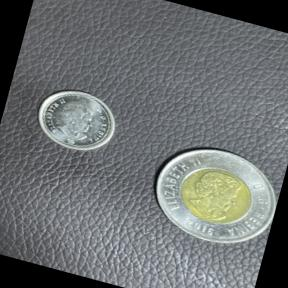coin: (133, 125, 288, 263), (25, 78, 128, 164)
